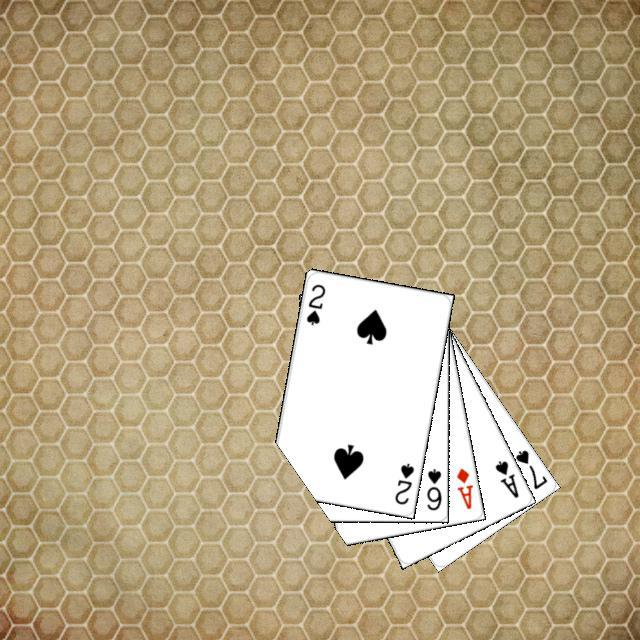2s: (390, 458, 416, 506), (301, 279, 327, 327)
6s: (422, 464, 443, 512)
7s: (510, 445, 549, 491)
Ad: (452, 463, 474, 511)
As: (490, 456, 521, 500)
